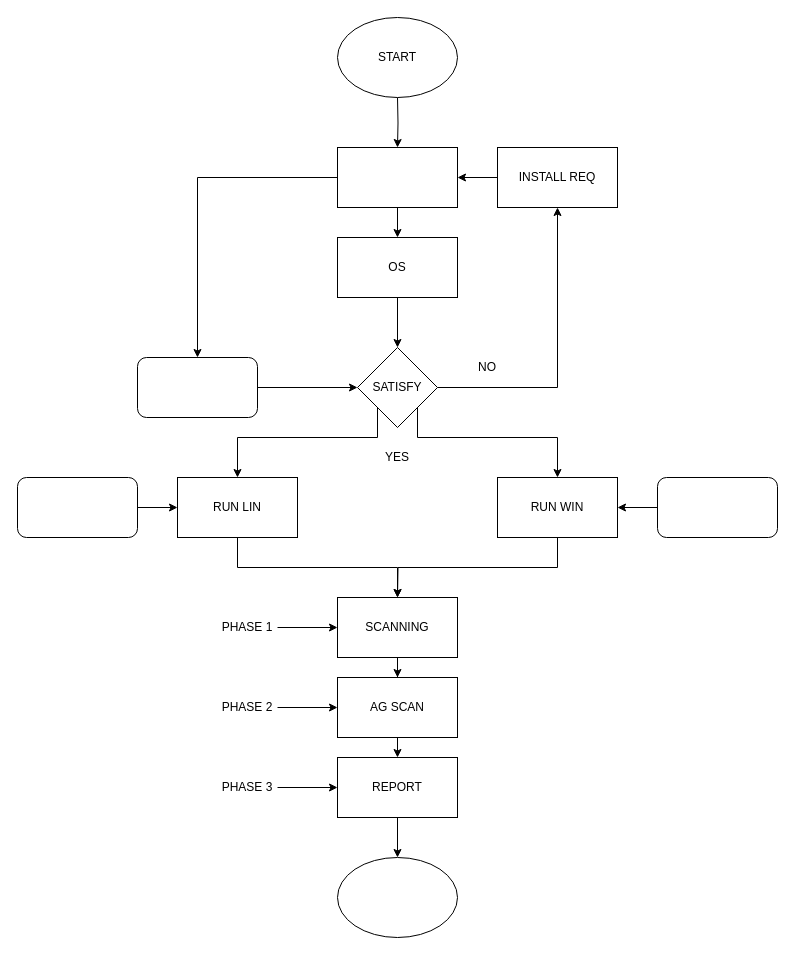
Some shapes in this 795 by 955 pixel diagram are drawn without their labels. The centre of each missing label's shape, as x and y in pixels:
"DEP LIN" belongs at point 77,507.
"DEP WIN" belongs at point 717,507.
"INFO(GATHER)" belongs at point 397,177.
"Requirements" belongs at point 197,387.
"STOP" belongs at point 397,897.
